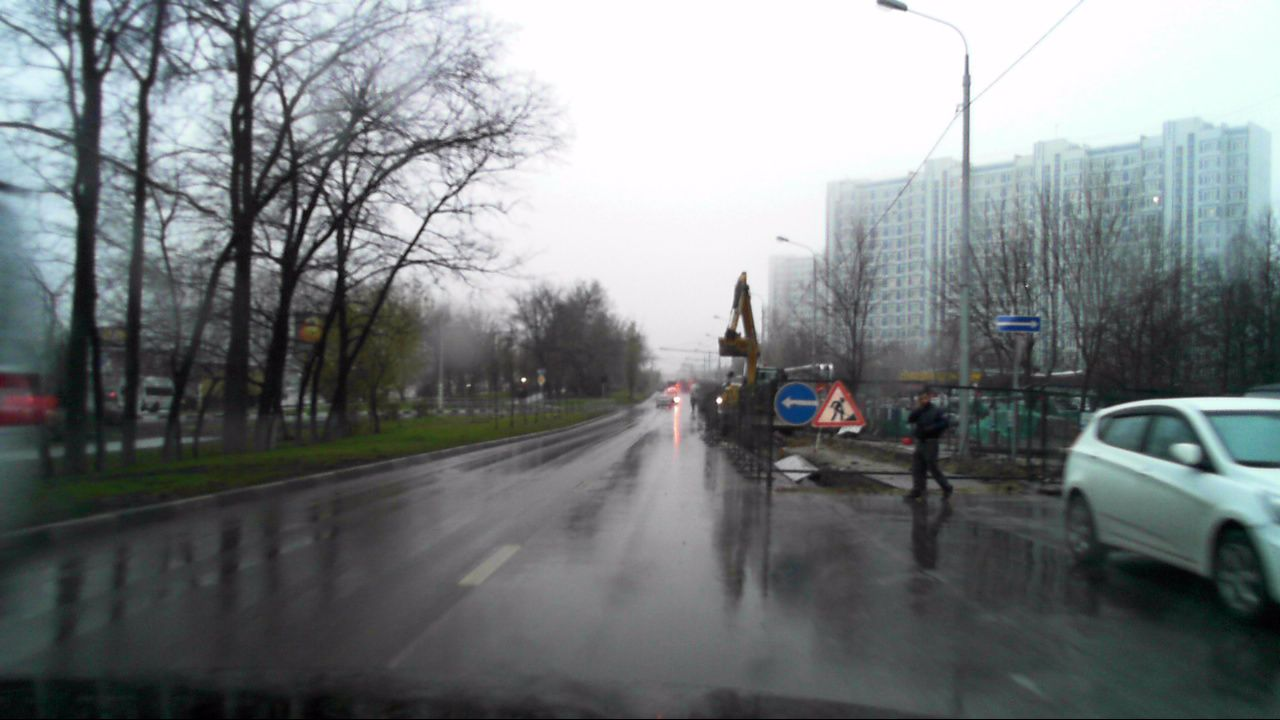One-Way Traffic: (996, 315, 1041, 332)
Turn Left: (773, 382, 818, 425)
